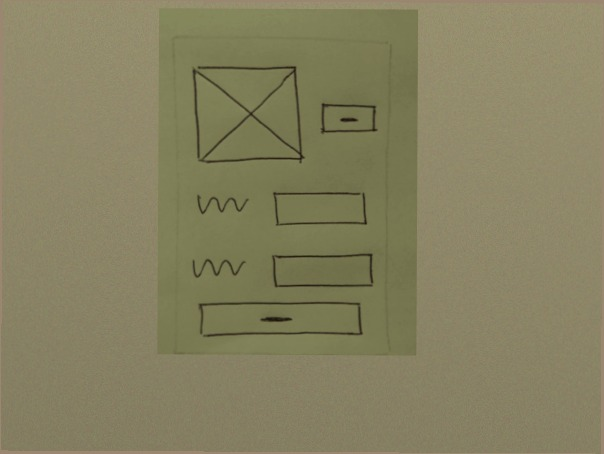button: (195, 299, 367, 344), (316, 93, 382, 139)
image: (187, 63, 310, 171)
text: (188, 252, 250, 289), (190, 188, 251, 223)
text_input: (269, 249, 378, 294), (270, 186, 372, 230)
